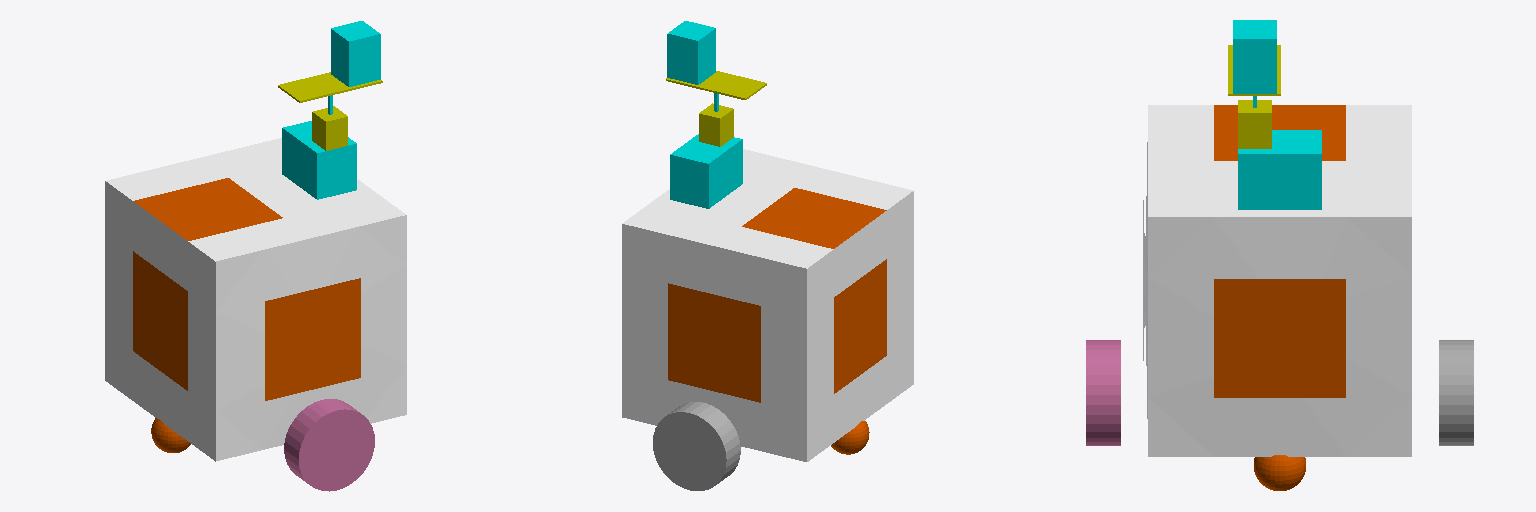
The robot description file, URDF, robot "tama":
<?xml version="1.0" ?>
<!-- =================================================================================== -->
<!-- |    This document was autogenerated by xacro from [local-path]/hokuyo_repo/hokuyo_plus/ros/denemeler_urdf/hokuyo_plus.xacro | -->
<!-- |    EDITING THIS FILE BY HAND IS NOT RECOMMENDED                                 | -->
<!-- =================================================================================== -->
<robot name="tama">
    <!-- * * * Link Definitions * * * -->
    <link name="taban">
        <visual>
            <origin rpy="0 0 0" xyz="0 0 0.035" />
            <geometry>
                <box size="0.0625 0.095 0.07" />
            </geometry>
            <material name="Cyan1">
                <color rgba="0 0.9 0.9 1.0" />
            </material>
        </visual>
        <inertial>
            <mass value="1" />
            <origin rpy="0 0 0" xyz="0 0 0" />
            <inertia ixx="0.01" ixy="0" ixz="0" iyy="0.01" iyz="0" izz="0.01" />
        </inertial>
    </link>
    <link name="pan_direk">
        <visual>
            <origin rpy="0 0 0" xyz="0 0 0" />
            <geometry>
                <box size="0.035 0.038 0.044" />
            </geometry>
            <material name="Yellow2">
                <color rgba="0.8 0.8 0 1.0" />
            </material>
        </visual>
        <inertial>
            <mass value="0.50" />
            <origin rpy="0 0 0" xyz="0 0 0" />
            <inertia ixx="0.01" ixy="0" ixz="0" iyy="0.01" iyz="0" izz="0.01" />
        </inertial>
    </link>
    <link name="tilt_direk">
        <visual>
            <origin rpy="0 -1.57 0" xyz="-0.022 0 0" />
            <geometry>
                <box size="0.005 0.005 0.044" />
            </geometry>
            <material name="Cyan1">
                <color rgba="0 0.9 0.9 1.0" />
            </material>
        </visual>
        <inertial>
            <mass value="0.20" />
            <origin rpy="0 0 0" xyz="0 0 0" />
            <inertia ixx="0.01" ixy="0" ixz="0" iyy="0.01" iyz="0" izz="0.01" />
        </inertial>
    </link>
    <link name="hokuyo_taban">
        <visual>
            <origin rpy="0 -1.57 0" xyz="0 0 0" />
            <geometry>
                <box size="0.13 0.06 0.003 " />
            </geometry>
            <material name="Yellow2">
                <color rgba="0.8 0.8 0 1.0" />
            </material>
        </visual>
        <inertial>
            <mass value="0.10" />
            <origin rpy="0 0 0" xyz="0 0 0" />
            <inertia ixx="0.01" ixy="0" ixz="0" iyy="0.01" iyz="0" izz="0.01" />
        </inertial>
    </link>
    <link name="hokuyo_link">
        <collision>
            <origin rpy="0 0 0" xyz="0 0 -0.05" />
            <geometry>
                <box size="0.1 0.1 0.08" />
            </geometry>
        </collision>
        <visual>
            <origin rpy="0 0 0" xyz="-0.035 0 0" />
            <geometry>
                <box size="0.05 0.05 0.07" />
            </geometry>
            <material name="Cyan1">
                <color rgba="0 0.9 0.9 1.0" />
            </material>
        </visual>
        <inertial>
            <mass value="1e-5" />
            <origin rpy="0 0 0" xyz="0 0 0" />
            <inertia ixx="1e-6" ixy="0" ixz="0" iyy="1e-6" iyz="0" izz="1e-6" />
        </inertial>
    </link>
    <joint name="pan_joint" type="revolute">
        <parent link="taban" />
        <child link="pan_direk" />
        <origin rpy="0 0 0" xyz="0 -0.0285 0.092" />
        <dynamics damping="1.0" />
        <axis xyz="0 0 1" />
        <limit effort="10" lower="-3.1416" upper="3.1416" velocity="3" />
    </joint>
    <joint name="tilt_joint" type="revolute">
        <parent link="pan_direk" />
        <child link="tilt_direk" />
        <origin rpy="0 1.57 0" xyz="0 0 0.022" />
        <axis xyz="0 0 1" />
        <limit effort="10" lower="-0.8727" upper="0.8727" velocity="3" />
        <dynamics damping="1.0" />
    </joint>
    <joint name="hokuyo_base_joint" type="fixed">
        <parent link="tilt_direk" />
        <child link="hokuyo_taban" />
        <origin rpy="0 0 0" xyz="-0.0450 0 0" />
        <dynamics damping="1.0" />
    </joint>
    <joint name="hokuyo_joint" type="fixed">
        <origin rpy="0 -1.57 0" xyz="-0.035 0 0.075" />
        <parent link="hokuyo_taban" />
        <child link="hokuyo_link" />
        <dynamics damping="1.0" />
    </joint>
    <gazebo reference="taban">
                <material>Gazebo/Orange</material>
                <turnGravityOff>true</turnGravityOff>
        </gazebo>
        
        <gazebo reference="pan_direk">
                <material>Gazebo/Blue</material>
                <turnGravityOff>true</turnGravityOff>
                
        </gazebo>
        
        <gazebo reference="tilt_direk">
                <material>Gazebo/White</material>
                <turnGravityOff>true</turnGravityOff>
        </gazebo>
        
        <gazebo reference="hokuyo_taban">
                <material>Gazebo/Orange</material>
                <turnGravityOff>true</turnGravityOff>
        </gazebo>
    <!-- gazebo reference for hokuyo-->
    <gazebo reference="hokuyo_link">
    	<material>Gazebo/Blue</material>
        <sensor name="hokuyo_sensor" type="ray">
            <pose>0 0 0 0 0 0</pose>
            <update_rate>10</update_rate>
            <ray>
                <scan>
                    <horizontal>
                        <samples>640</samples>
                        <resolution>1</resolution>
                        <min_angle>-2.094</min_angle>
                        <max_angle>2.094</max_angle>
                    </horizontal>
                </scan>
                <range>
                    <min>0.02</min>
                    <max>4.0</max>
                    <resolution>0.00628318531</resolution>
                </range>
                <noise>
                    <type>gaussian</type>
                    <mean>0.0</mean>
                    <stddev>0.0001</stddev>
                </noise>
            </ray>
            <plugin filename="libgazebo_ros_laser.so" name="body_controller">
                <topicName>hokuyo/scan</topicName>
                <frameName>hokuyo_link</frameName>
         </plugin>
        </sensor>
        <turnGravityOff>true</turnGravityOff>
    </gazebo>
    <transmission name="trans_pan_joint">
        <type>transmission_interface/SimpleTransmission</type>
        <joint name="pan_joint">
            <hardwareInterface>hardware_interface/EffortJointInterface</hardwareInterface>
        </joint>
        <actuator name="pan_joint_motor">
            <hardwareInterface>hardware_interface/EffortJointInterface</hardwareInterface>
            <mechanicalReduction>1</mechanicalReduction>
        </actuator>
    </transmission>
    <transmission name="trans_tilt_joint">
        <type>transmission_interface/SimpleTransmission</type>
        <joint name="tilt_joint">
            <hardwareInterface>hardware_interface/EffortJointInterface</hardwareInterface>
        </joint>
        <actuator name="tilt_joint_motor">
            <hardwareInterface>hardware_interface/EffortJointInterface</hardwareInterface>
            <mechanicalReduction>1</mechanicalReduction>
        </actuator>
    </transmission>
    <gazebo>
            <plugin name="gazebo_ros_control" filename="libgazebo_ros_control.so">
            </plugin>
     </gazebo>
  <material name="black">
    <color rgba="0.0 0.0 0.0 1.0"/>
  </material>
  <material name="blue">
    <color rgba="0.203125 0.23828125 0.28515625 1.0"/>
  </material>
  <material name="green">
    <color rgba="0.0 0.8 0.0 1.0"/>
  </material>
  <material name="grey">
    <color rgba="0.2 0.2 0.2 1.0"/>
  </material>
  <material name="orange">
    <color rgba="1.0 0.423529411765 0.0392156862745 1.0"/>
  </material>
  <material name="brown">
    <color rgba="0.870588235294 0.811764705882 0.764705882353 1.0"/>
  </material>
  <material name="red">
    <color rgba="0.80078125 0.12890625 0.1328125 1.0"/>
  </material>
  <material name="white">
    <color rgba="1.0 1.0 1.0 1.0"/>
  </material>
  <link name="link_chassis">
    <!-- pose and inertial -->
    <pose>0 0 0.1 0 0 0</pose>
    <inertial>
      <mass value="2"/>
      <origin rpy="0 0 0" xyz="0 0 0"/>
      <inertia ixx="0.0395416666667" ixy="0" ixz="0" iyy="0.106208333333" iyz="0" izz="0.106208333333"/>
    </inertial>
    <!-- body -->
    <collision name="collision_chassis">
      <origin rpy="0 0 0" xyz="0 0 -0.05"/>
      <geometry>
        <box size="0.3 0.3 0.3"/>
      </geometry>
    </collision>
    <visual name="visual_chassis">
      <origin rpy="0 0 0" xyz="0 0 -0.05"/>
      <geometry>
        <mesh filename = "package://hokuyo_plus/config/minik1.dae" scale="0.5 0.5 0.5"/>
      </geometry>

      <!-- <material name="blue"/>-->
    </visual>
    <!-- caster front-->
    <collision name="caster_front_collision">
      <origin rpy=" 0 0 0" xyz="0.13 0 -0.22"/>
      <geometry>
        <sphere radius="0.03"/>
      </geometry>
      <surface>
        <friction>
          <ode>
            <mu>0</mu>
            <mu2>0</mu2>
            <slip1>1.0</slip1>
            <slip2>1.0</slip2>
          </ode>
        </friction>
      </surface>
    </collision>
    <visual name="caster_front_visual">
      <origin rpy=" 0 0 0" xyz="0.13 0 -0.22"/>
      <geometry>
        <sphere radius="0.03"/>
      </geometry>
    </visual>

   <!-- caster back-->
    <collision name="caster_back_collision">
      <origin rpy=" 0 0 0" xyz="-0.13 0 -0.22"/>
      <geometry>
        <sphere radius="0.03"/>
      </geometry>
      <surface>
        <friction>
          <ode>
            <mu>0</mu>
            <mu2>0</mu2>
            <slip1>1.0</slip1>
            <slip2>1.0</slip2>
          </ode>
        </friction>
      </surface>
    </collision>
    <visual name="caster_back_visual">
      <origin rpy=" 0 0 0" xyz="-0.13 0 -0.22"/>
      <geometry>
        <sphere radius="0.03"/>
      </geometry>
    </visual>
  </link>


   <joint name="joint_sensor_laser" type="fixed">
   <origin xyz="0.1 0 0.1" rpy="0 0 0"/>
   <parent link="link_chassis"/>
   <child link="taban"/>
 </joint>

<gazebo reference="link_chassis">
    <material>Gazebo/Orange</material>
  </gazebo>
  <gazebo reference="link_left_wheel">
    <material>Gazebo/Green</material>
  </gazebo>
  <gazebo reference="link_right_wheel">
    <material>Gazebo/Blue</material>
  </gazebo>

  <gazebo reference="link_sensor_laser">
    <material>Gazebo/Blue</material>
  </gazebo>

  <gazebo>
    <plugin filename="libgazebo_ros_diff_drive.so" name="differential_drive_controller">
      <legacyMode>false</legacyMode>
      <alwaysOn>true</alwaysOn>
      <updateRate>20</updateRate>
      <leftJoint>joint_left_wheel</leftJoint>
      <rightJoint>joint_right_wheel</rightJoint>
      <wheelSeparation>0.4</wheelSeparation><!-- 0.2-->
      <wheelDiameter>0.12</wheelDiameter><!-- 0.2-->
      <wheelTorque>0.5</wheelTorque>
      <torque>0.1</torque><!-- 0.1-->
      <commandTopic>cmd_vel</commandTopic>
      <odometryTopic>odom</odometryTopic>
      <odometryFrame>odom</odometryFrame>
      <robotBaseFrame>link_chassis</robotBaseFrame>
      <publishWheelTF>true</publishWheelTF>
      <publishOdomTF>true</publishOdomTF>
      <publishWheelJointState>true</publishWheelJointState>
      <rosDebugLevel>na</rosDebugLevel>
      <publishTf>1</publishTf>
      <odometrySource>world</odometrySource>
      <wheelAcceleration>1</wheelAcceleration>
      <robotNamespace>minik0</robotNamespace>
    </plugin>
  </gazebo>
  <link name="link_right_wheel">
            <inertial>
              <mass value="0.2"/>
              <origin rpy="0 1.5707 1.5707" xyz="0 0 0"/>
              <inertia ixx="0.000526666666667" ixy="0" ixz="0" iyy="0.000526666666667" iyz="0" izz="0.001"/>
            </inertial>
            <collision name="link_right_wheel_collision">
              <origin rpy="0 1.5707 1.5707" xyz="0 0 0"/>
              <geometry>
                <cylinder length="0.04" radius="0.06"/><!-- radius="0.07-->
              </geometry>
            </collision>
            <visual name="$link_right_wheel_visual">
              <origin rpy="0 1.5707 1.5707" xyz="0 0 0"/>
              <geometry>
                <cylinder length="0.04" radius="0.06"/><!-- radius="0.07-->
              </geometry>
            </visual>
   </link>
  <link name="link_left_wheel">
            <inertial>
              <mass value="0.2"/>
              <origin rpy="0 1.5707 1.5707" xyz="0 0 0"/>
              <inertia ixx="0.000526666666667" ixy="0" ixz="0" iyy="0.000526666666667" iyz="0" izz="0.001"/>
            </inertial>
            <collision name="link_left_wheel_collision">
              <origin rpy="0 1.5707 1.5707" xyz="0 0 0"/>
              <geometry>
                <cylinder length="0.04" radius="0.06"/><!-- radius="0.07-->
              </geometry>
            </collision>
            <visual name="$link_left_wheel_visual">
              <origin rpy="0 1.5707 1.5707" xyz="0 0 0"/>
              <geometry>
                <cylinder length="0.04" radius="0.06"/><!-- radius="0.07-->
              </geometry>
            </visual>
  </link>
  <joint name="joint_right_wheel" type="continuous">
        <origin rpy="0 0 0" xyz="0 -0.2 -0.19"/>
        <child link="link_right_wheel"/>
        <parent link="link_chassis"/>
        <axis rpy="0 0 0" xyz="0 1 0"/>
        <limit effort="10000" velocity="1000"/>
        <joint_properties damping="1.0" friction="1.0"/>
      </joint>
  <joint name="joint_left_wheel" type="continuous">
        <origin rpy="0 0 0" xyz="0 0.2 -0.19"/>
        <child link="link_left_wheel"/>
        <parent link="link_chassis"/>
        <axis rpy="0 0 0" xyz="0 1 0"/>
        <limit effort="10000" velocity="1000"/>
        <joint_properties damping="1.0" friction="1.0"/>
      </joint>
</robot>

--- Render facts (derived) ---
The picture shows the robot from 3 angles, left to right: view 1: azimuth 30°, elevation 25°; view 2: azimuth 150°, elevation 25°; view 3: azimuth 270°, elevation 25°; orthographic projection.
Robot: tama — 8 links, 7 joints (2 revolute, 2 continuous, 3 fixed); root link link_chassis; default pose: every joint at zero.
Links seen in each view (by area): view 1: link_chassis, link_right_wheel, taban, hokuyo_link, hokuyo_taban, pan_direk; view 2: link_chassis, link_left_wheel, taban, hokuyo_link, hokuyo_taban, pan_direk; view 3: link_chassis, taban, link_right_wheel, link_left_wheel, hokuyo_link, pan_direk, hokuyo_taban.
Link boxes in pixels (x1,y1,x2,y2): link_chassis: [105, 138, 406, 461]; link_right_wheel: [284, 399, 374, 491]; taban: [282, 121, 356, 199]; hokuyo_link: [331, 21, 380, 86]; hokuyo_taban: [278, 72, 382, 102]; pan_direk: [312, 106, 347, 150]; link_chassis: [622, 149, 913, 461]; link_left_wheel: [653, 402, 740, 490]; taban: [670, 134, 742, 208]; hokuyo_link: [667, 21, 715, 84]; hokuyo_taban: [666, 71, 766, 99]; pan_direk: [699, 103, 733, 146]; link_chassis: [1143, 105, 1411, 490]; taban: [1238, 130, 1321, 209]; link_right_wheel: [1086, 340, 1120, 445]; link_left_wheel: [1439, 340, 1473, 445]; hokuyo_link: [1233, 20, 1276, 93]; pan_direk: [1238, 100, 1271, 148]; hokuyo_taban: [1228, 45, 1280, 95].
Size in the robot's own frame: 0.325 by 0.44 by 0.5791 metres.
1 mesh visuals loaded from 1 distinct referenced files (1 Collada DAE).
